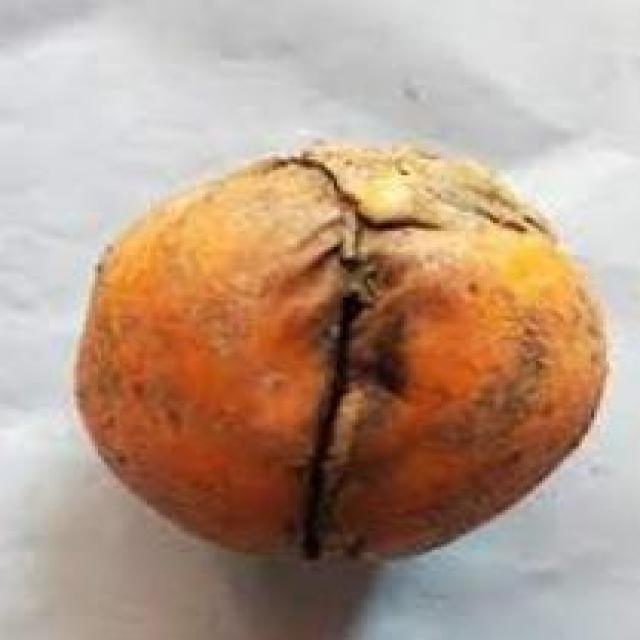damaged: (70, 141, 616, 566)
